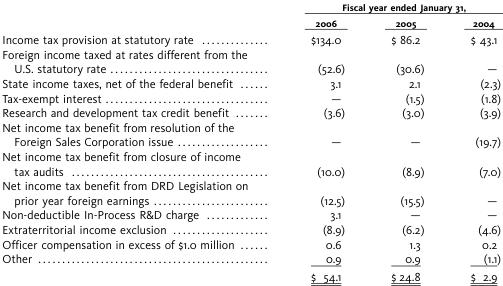table: (1, 1, 500, 282)
table column: (1, 1, 278, 282), (278, 1, 367, 282), (367, 1, 446, 282), (446, 1, 500, 282)
table column header: (1, 1, 500, 30)
table row: (1, 148, 500, 178), (1, 46, 500, 75), (1, 119, 500, 148), (1, 178, 500, 207), (1, 14, 500, 30), (1, 30, 500, 46), (1, 251, 500, 267), (1, 75, 500, 90), (1, 90, 500, 105), (1, 221, 500, 236), (1, 236, 500, 251), (1, 267, 500, 282), (1, 105, 500, 119), (1, 207, 500, 221), (1, 1, 500, 14)
table spanning cell: (278, 1, 500, 14)
